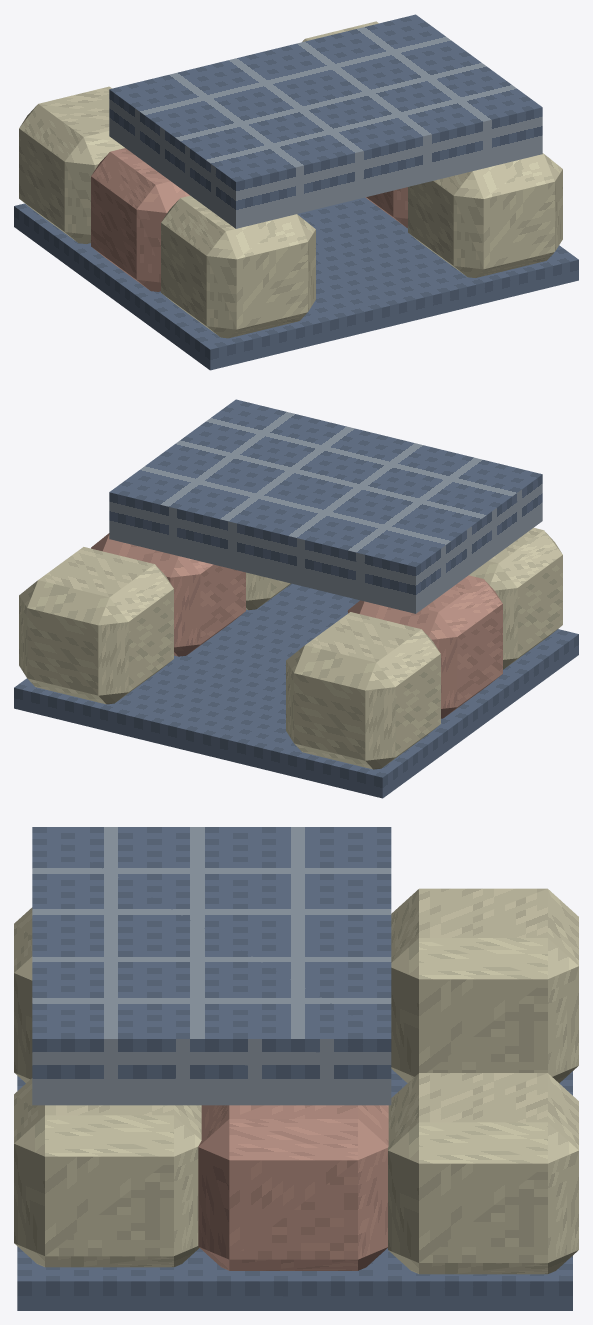
The model's file is f_pillow_fort.glb.
3 renders of one model, top to bottom at view 1: azimuth 30°, elevation 25°; view 2: azimuth 150°, elevation 25°; view 3: azimuth 270°, elevation 25°, orthographic. The views are drawn at different scales.
Parts seen in each view (by area): view 1: block_draped-quilt, block_piled-pillow (×5), block_blanket-floor; view 2: block_piled-pillow (×6), block_draped-quilt, block_blanket-floor; view 3: block_piled-pillow (×5), block_draped-quilt, block_blanket-floor.
Boxes of the visible parts, x1,y1,x2,y2 form: block_draped-quilt: [109, 14, 542, 228]; block_piled-pillow (×5): [19, 86, 562, 338]; block_blanket-floor: [14, 197, 578, 370]; block_piled-pillow (×6): [19, 527, 562, 769]; block_draped-quilt: [109, 399, 542, 613]; block_blanket-floor: [14, 583, 578, 798]; block_piled-pillow (×5): [14, 888, 578, 1274]; block_draped-quilt: [32, 827, 391, 1105]; block_blanket-floor: [17, 1069, 572, 1310].
Size of the model in its own units: 0.908 by 0.408 by 0.834.
Materials: 1 (1 with a texture image).
